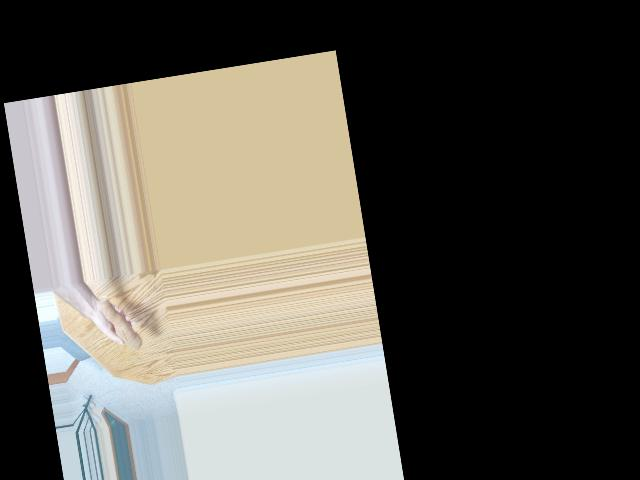sweet_potato: (94, 290, 143, 356)
